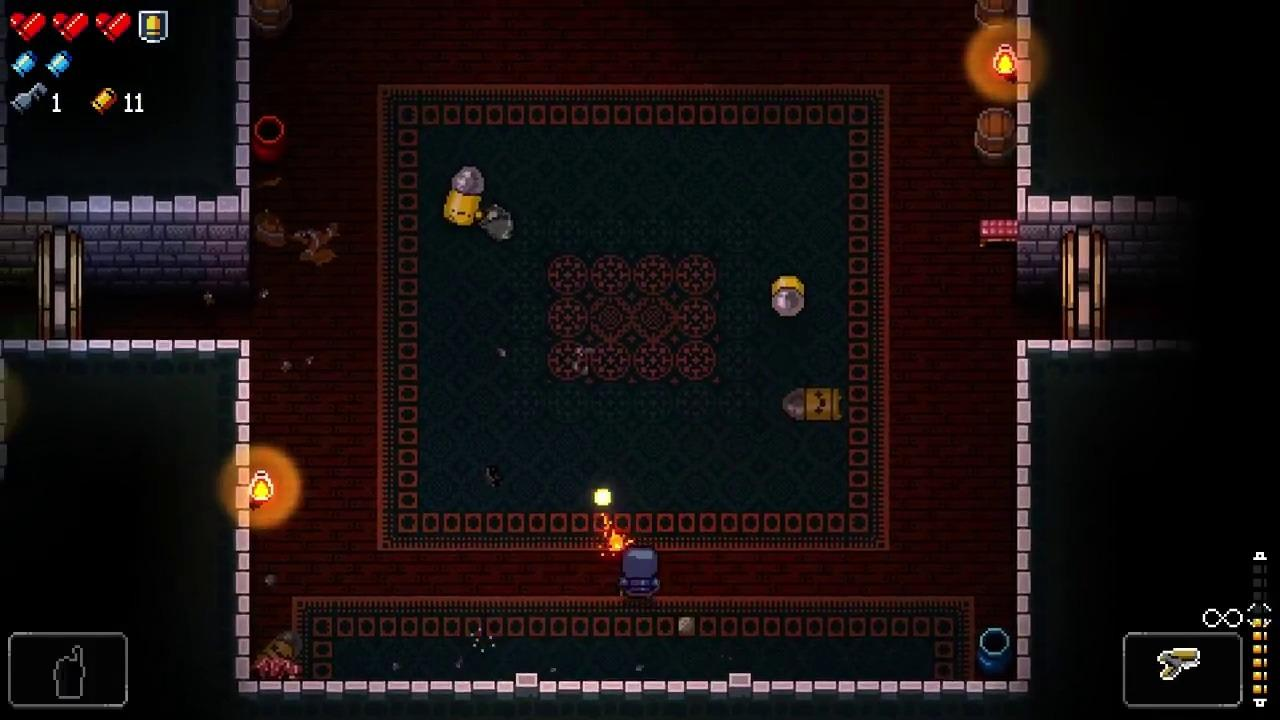bullet_kin: (443, 166, 484, 226)
dead_bullet_kin: (254, 631, 302, 677), (784, 386, 841, 421), (772, 275, 804, 318)
locked_door: (38, 224, 81, 342), (1062, 228, 1105, 340)
player: (621, 546, 659, 600)
